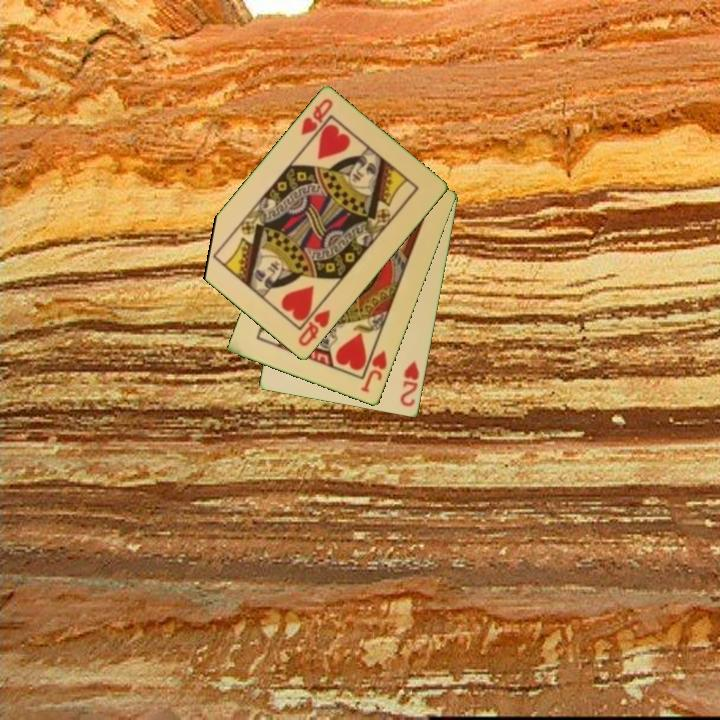2h: (397, 357, 423, 410)
Jh: (357, 340, 390, 396)
Qh: (295, 306, 334, 350), (297, 95, 336, 139)
